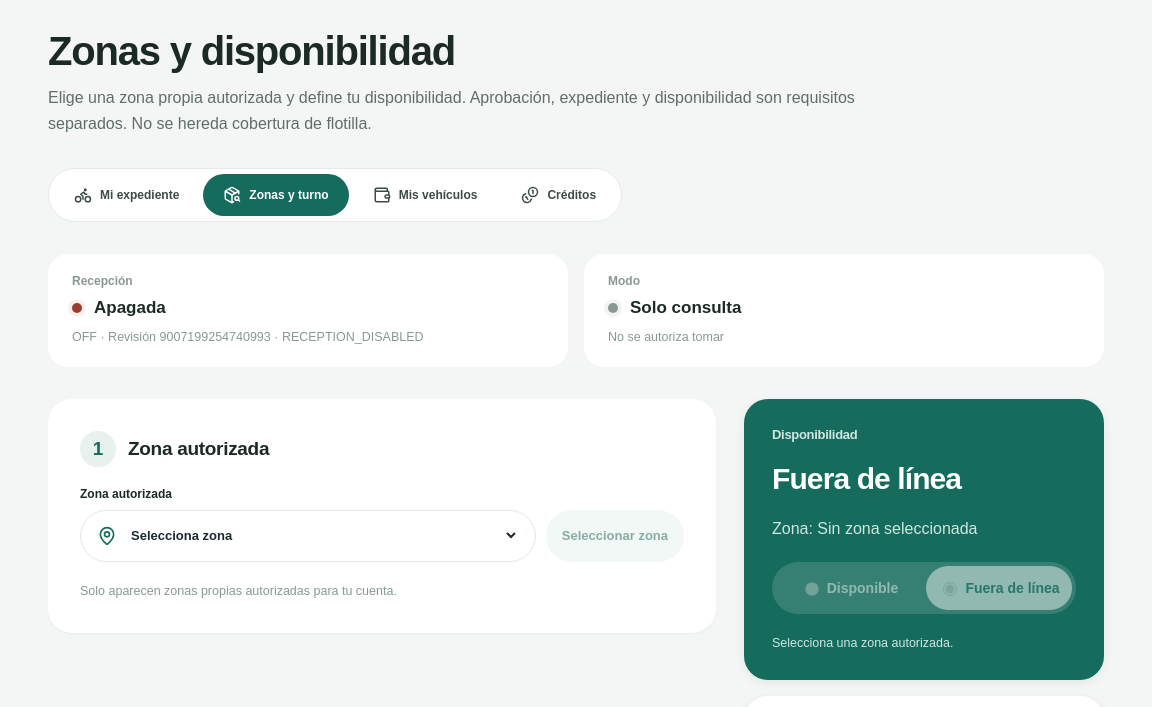
Scenario: preserves the exact revision and handles selection conflict without another mutation
Select "Zona sintética" in the dropdown labelled "Zona autorizada" at (323, 536), box [127, 527, 519, 544]
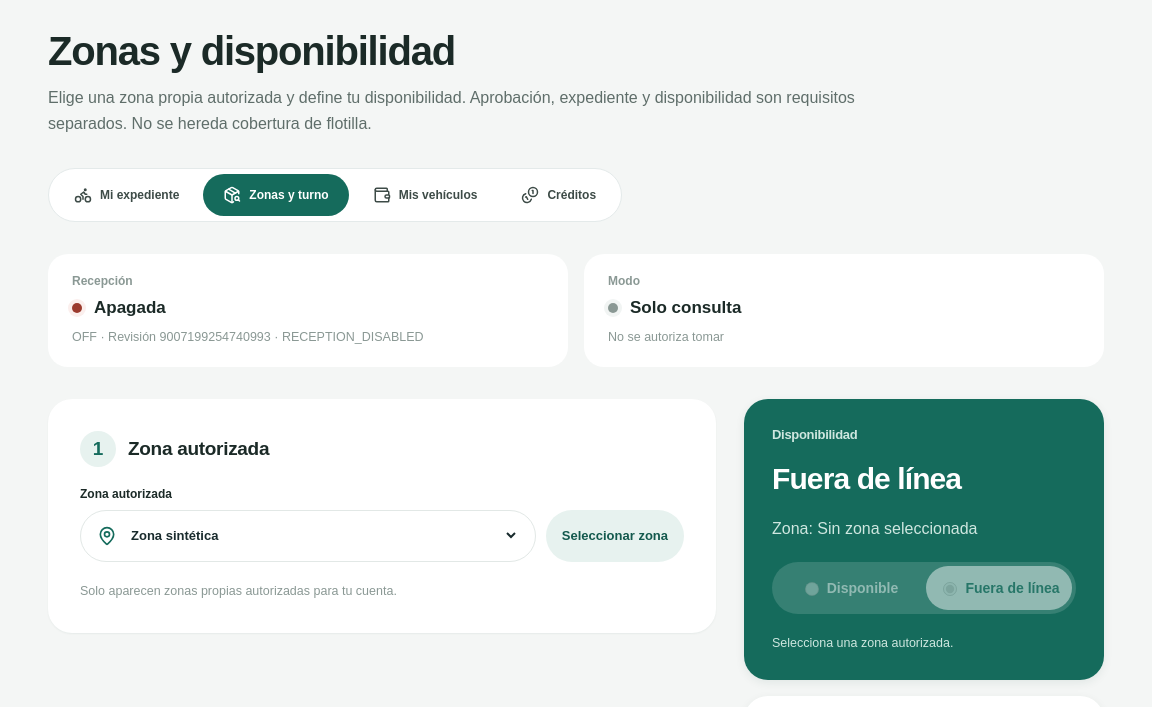
Click the button "Seleccionar zona".
click(615, 536)  # box [546, 510, 684, 562]
(page scrolled)
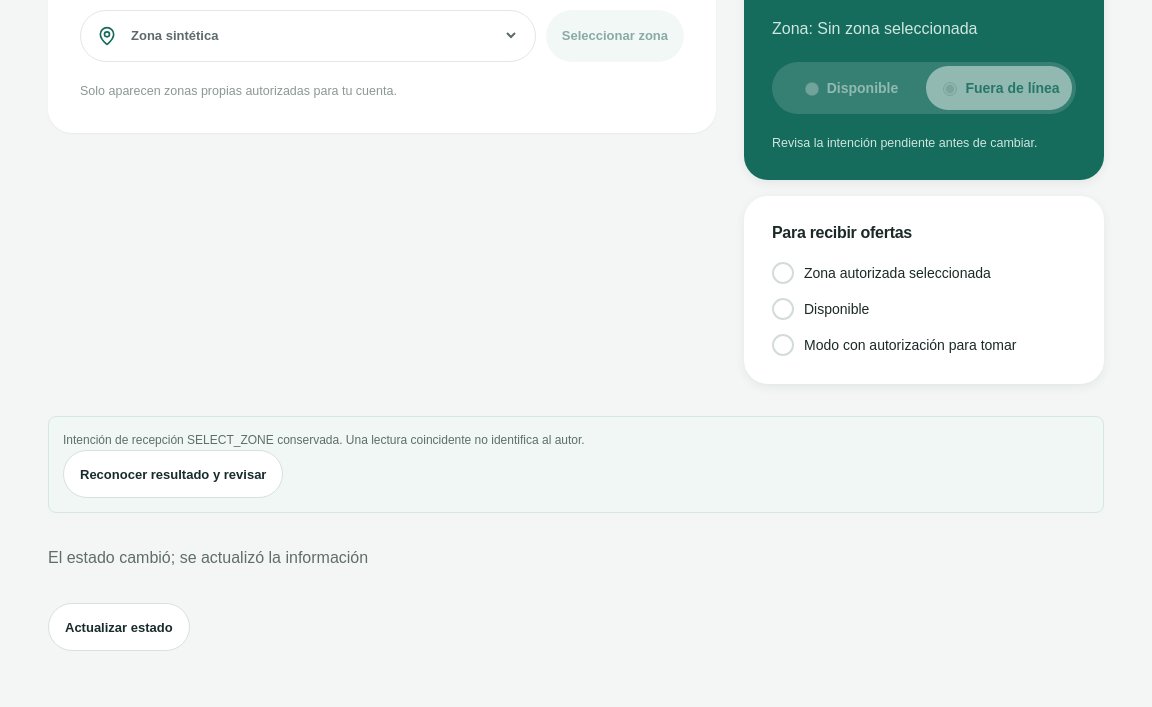
expect the text "El estado cambió; se actualizó la información" is shown: met, box [48, 550, 368, 566]
expect the button "Reconocer resultado y revisar" is shown: met, box [63, 450, 283, 498]
